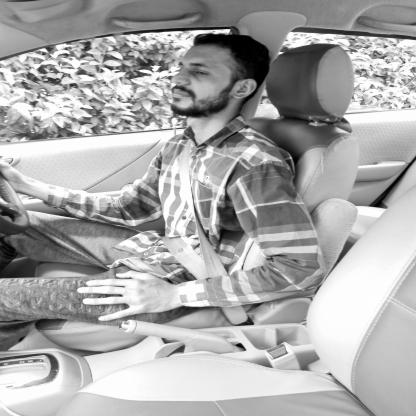seatbelt: (155, 26, 271, 222)
